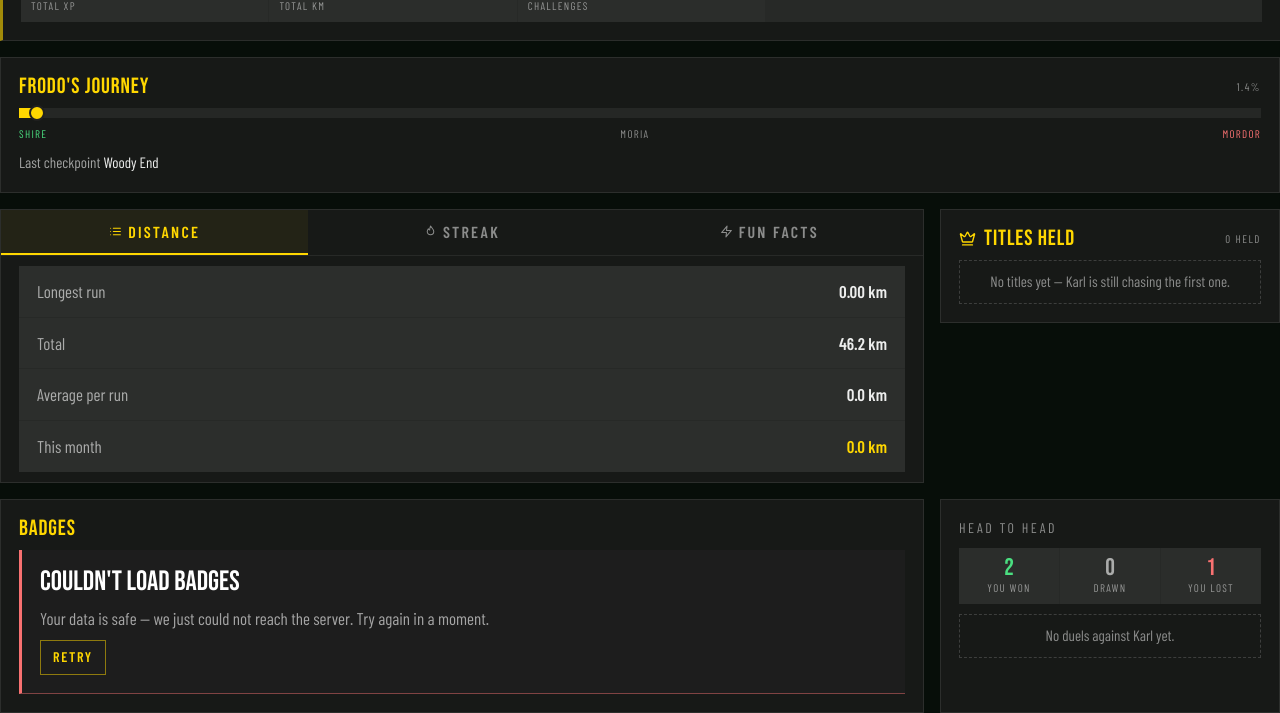
it: robusthet (T4) › badge-fel → felkort med Retry i panelen (inte "No badges yet."), inga minis, kortet i övrigt oförändrat; Retry hämtar om
(page scrolled)
Expected: the heading "Couldn't load badges" is shown, [40,568,240,596]
Expected: the element "FRODO'S JOURNEY" is shown, [0,57,1279,193]
Click the button "Retry": x=73, y=657 [40,640,106,675]
(page scrolled)
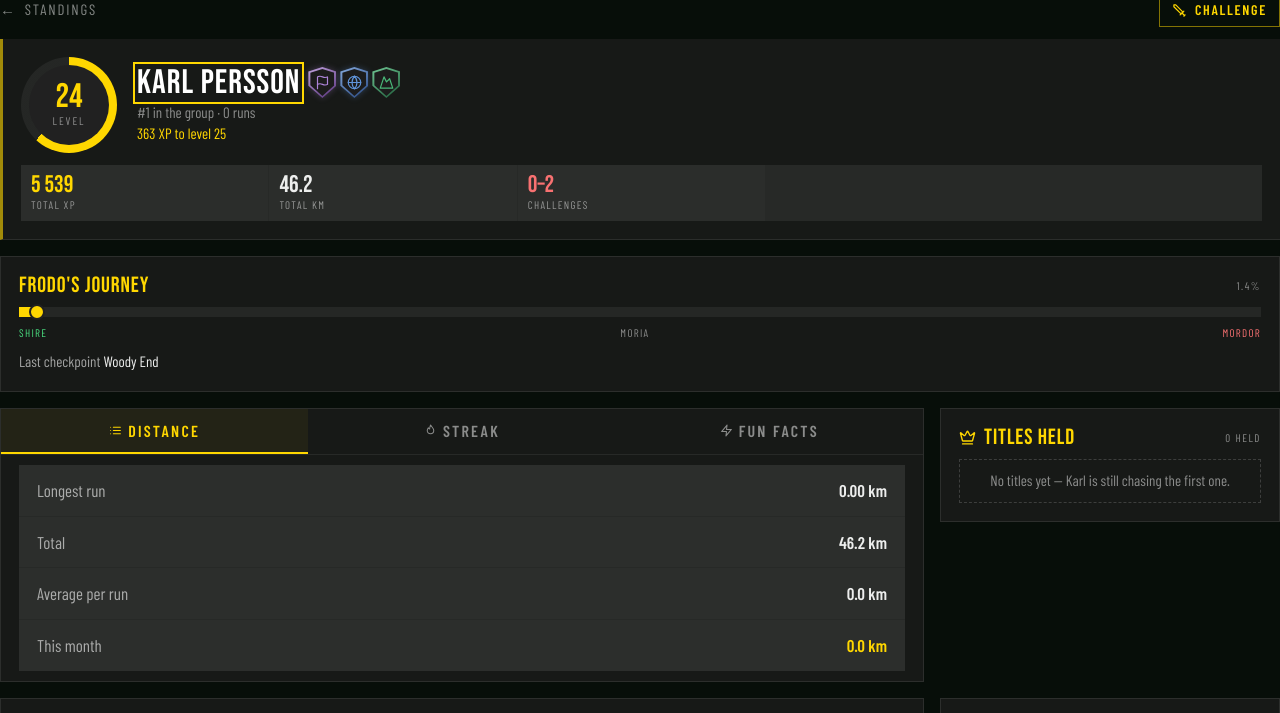
Now the picture named "Badges:" is shown, box [308,67,400,98]
Now the heading "Couldn't load badges" is gone
